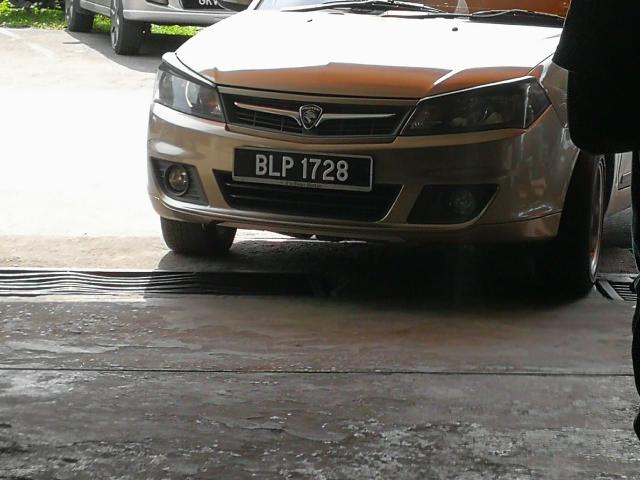License_Plate: (234, 147, 375, 193)
car: (156, 1, 640, 289)
